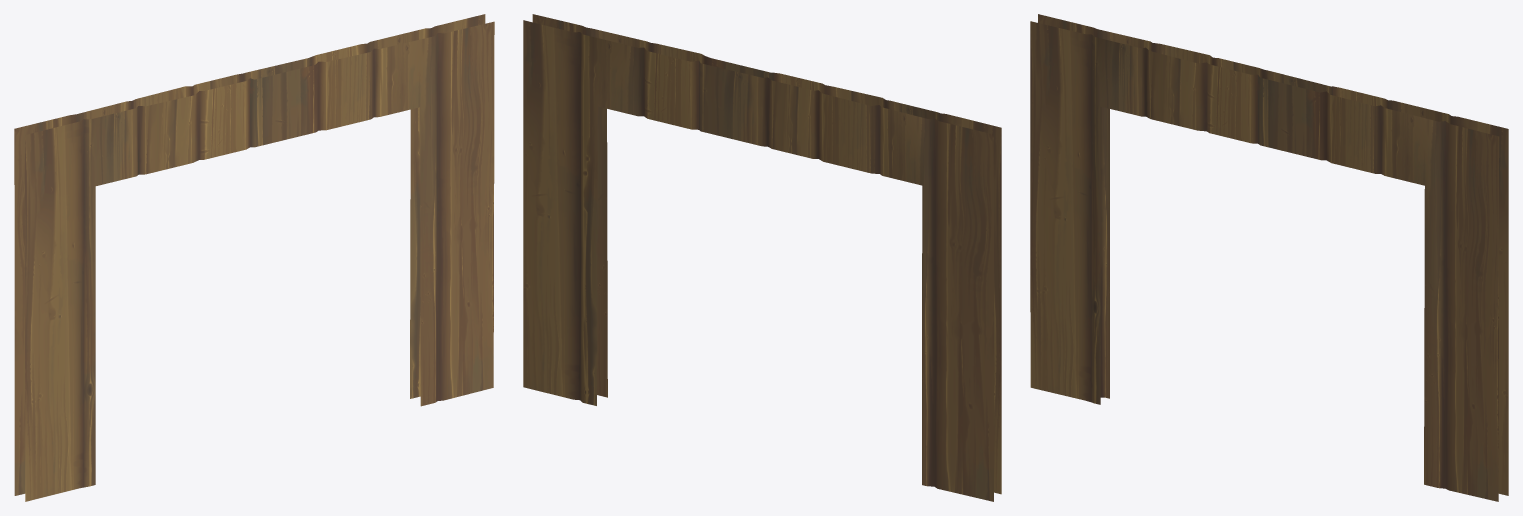
The model's file is SM_MOD_wall_doubledoor_planks_vert_town.fbx.
The picture shows the model from 3 angles, left to right: view 1: azimuth 30°, elevation 25°; view 2: azimuth 150°, elevation 25°; view 3: azimuth 330°, elevation 25°; orthographic projection.
Parts seen in each view (by area): view 1: SM_MOD_wall_doubledoor_planks_vert_town; view 2: SM_MOD_wall_doubledoor_planks_vert_town; view 3: SM_MOD_wall_doubledoor_planks_vert_town.
Part boxes in pixels (left/top/right/bottom): SM_MOD_wall_doubledoor_planks_vert_town: left=14, top=14, right=494, bottom=501; SM_MOD_wall_doubledoor_planks_vert_town: left=523, top=14, right=1001, bottom=501; SM_MOD_wall_doubledoor_planks_vert_town: left=1030, top=14, right=1508, bottom=501.
Size of the model in its own units: 378 by 283 by 15.12.
